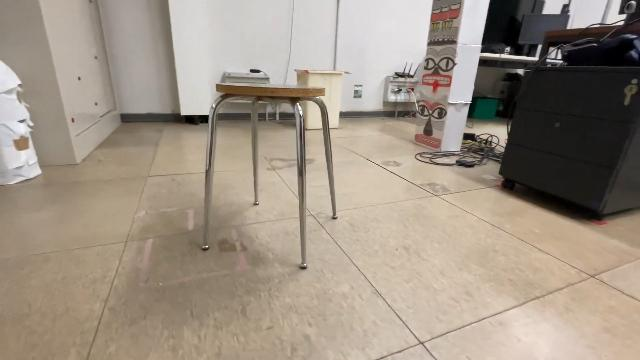Stool: (196, 82, 340, 274)
